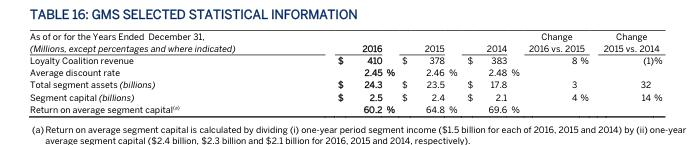table: (29, 29, 661, 114)
table column: (29, 29, 285, 114), (285, 29, 397, 114), (523, 29, 595, 114), (595, 29, 661, 114), (397, 29, 461, 114), (461, 29, 523, 114)
table column header: (29, 29, 661, 53)
table row: (29, 29, 661, 53), (29, 89, 661, 102), (29, 53, 661, 65), (29, 65, 661, 77), (29, 77, 661, 89), (29, 102, 661, 114)
